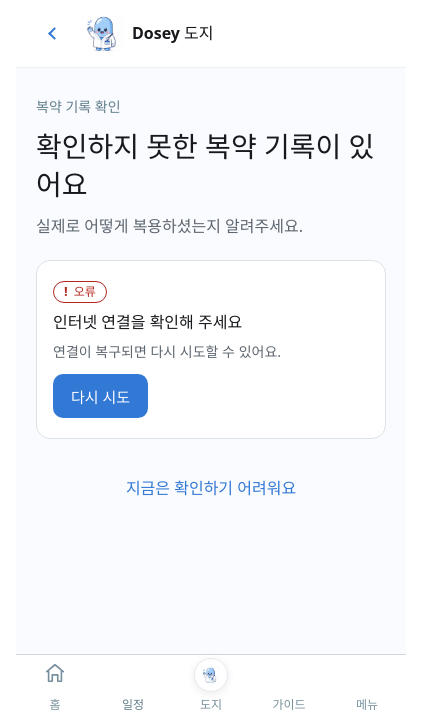
Test: UNCONFIRMED recovery list › keeps list failures retryable with sanitized copy
Check: the text "인터넷 연결을 확인해 주세요" is shown, box [53, 311, 242, 333]
Click the button "다시 시도": {"x": 101, "y": 396} [53, 374, 148, 418]
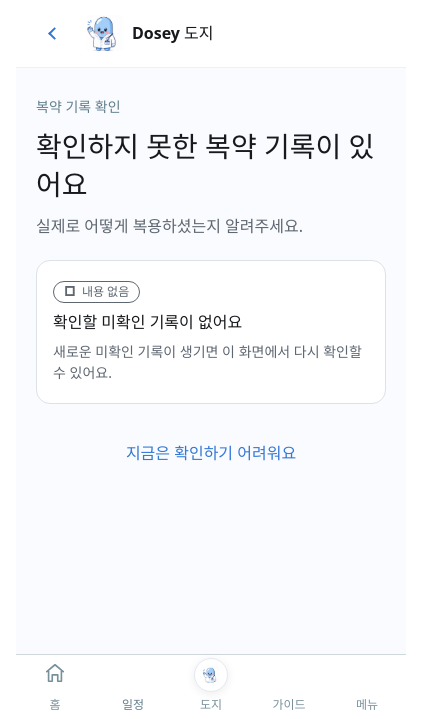
Check: the text "확인할 미확인 기록이 없어요" is shown, box [53, 311, 242, 333]
